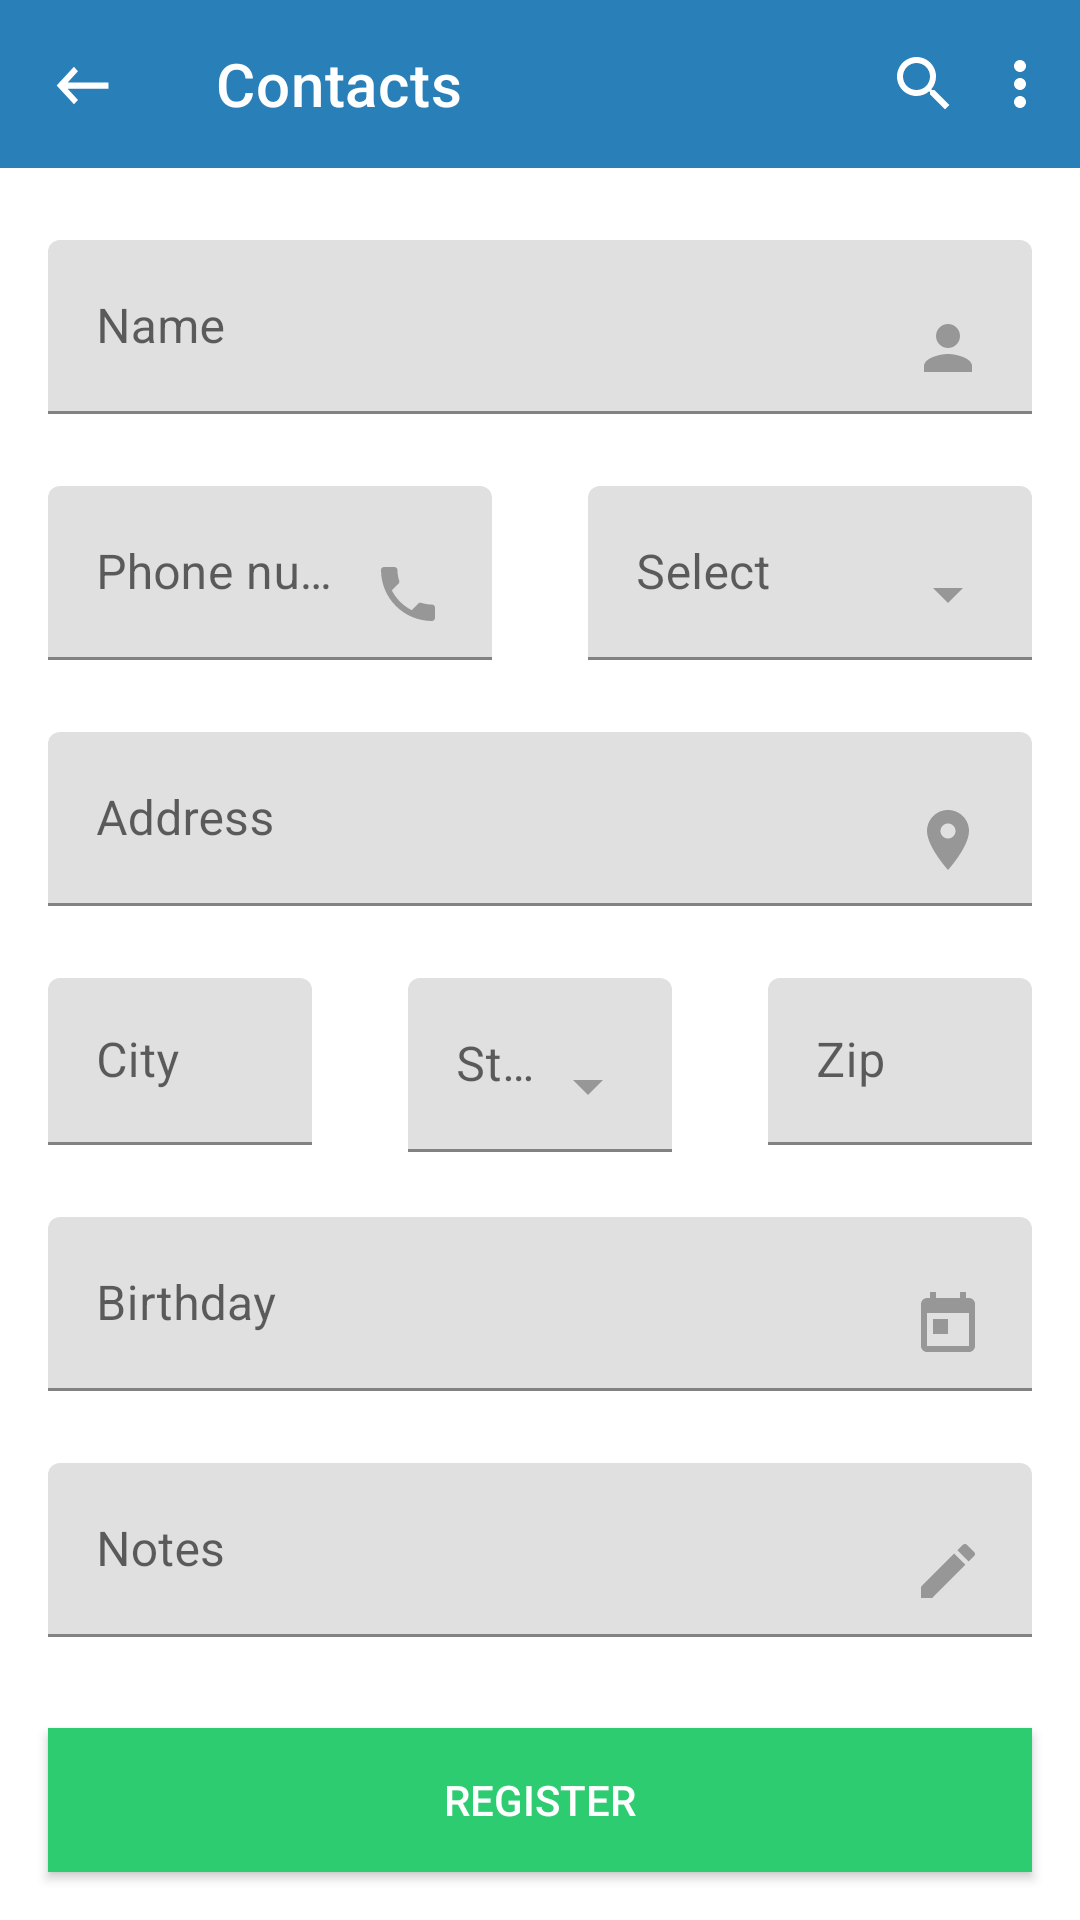

Where to tap for icons on this 1080*1920 app screen, as (x=x, y=y):
more vert: (x=1020, y=84)
search: (x=923, y=83)
